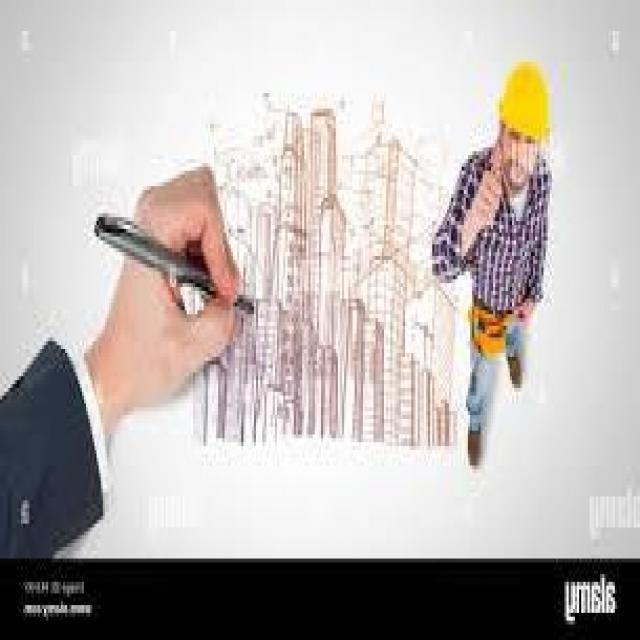safety_helmet: (488, 50, 562, 162)
